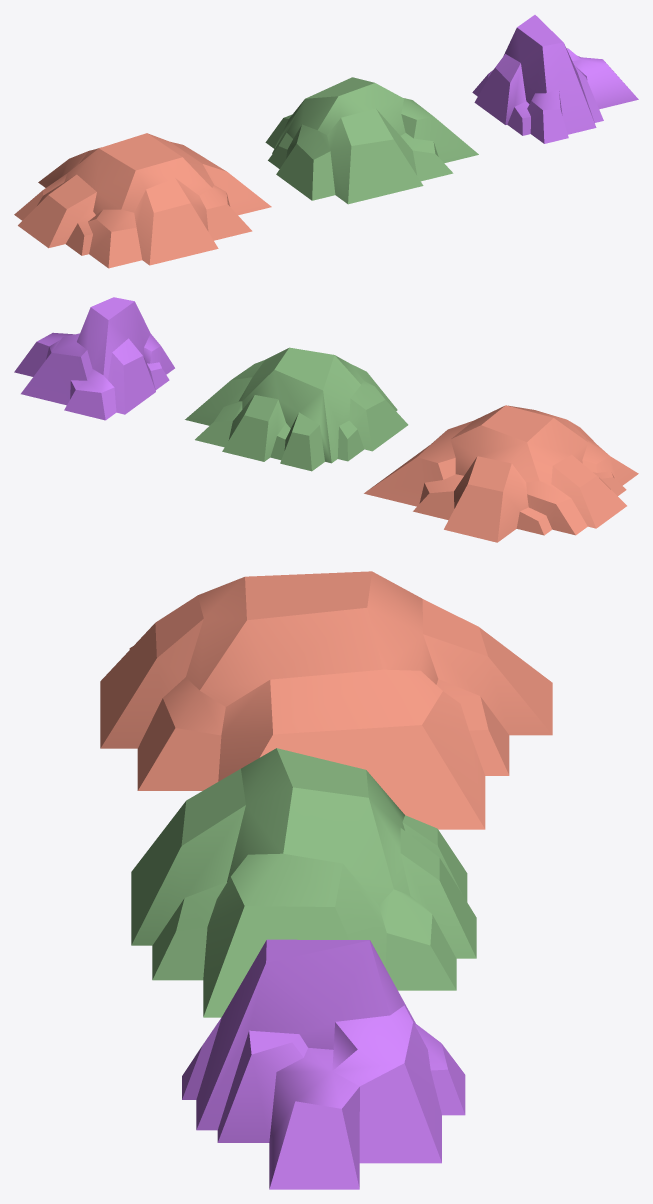
The model's file is StoneOre.FBx.
3 renders of one model, top to bottom at view 1: azimuth 30°, elevation 25°; view 2: azimuth 150°, elevation 25°; view 3: azimuth 270°, elevation 25°, orthographic. The views are drawn at different scales.
Visible parts, largest first — view 1: StoneOre_3, StoneOre_1, StoneOre_2; view 2: StoneOre_3, StoneOre_1, StoneOre_2; view 3: StoneOre_3, StoneOre_1, StoneOre_2.
Boxes of the visible parts, <box> form: StoneOre_3: <box>14,133,271,268</box>; StoneOre_1: <box>265,77,478,204</box>; StoneOre_2: <box>472,15,638,143</box>; StoneOre_3: <box>364,405,638,542</box>; StoneOre_1: <box>185,347,408,471</box>; StoneOre_2: <box>14,297,174,420</box>; StoneOre_3: <box>100,571,552,829</box>; StoneOre_1: <box>131,748,476,1017</box>; StoneOre_2: <box>182,939,465,1189</box>.
Bounding box in the file's own units: 341 × 50.49 × 113.
